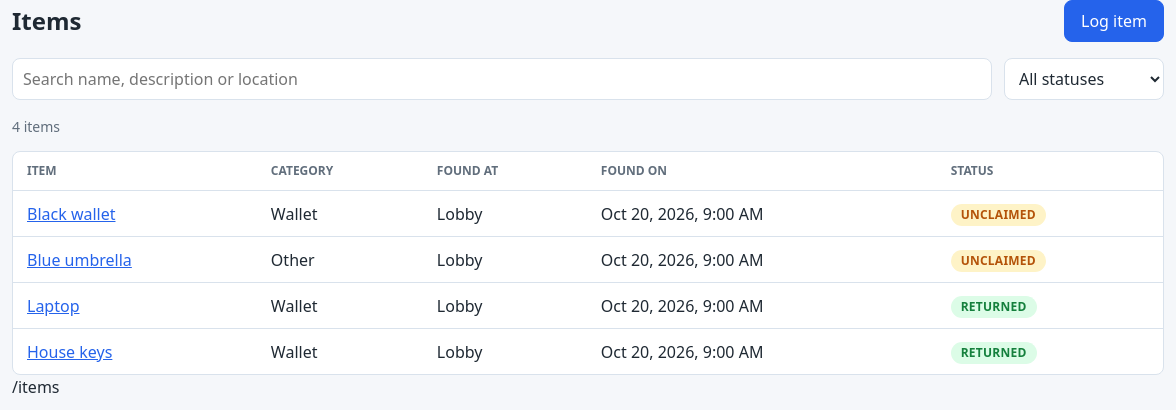
Test case: ItemsPage › filters by status and keeps it in the URL
Expected: the text "4 items" is shown, left=12, top=117, right=60, bottom=136
Select "Returned" in the dropdown named "Status" at x=1084, y=79, box left=1004, top=58, right=1164, bottom=100
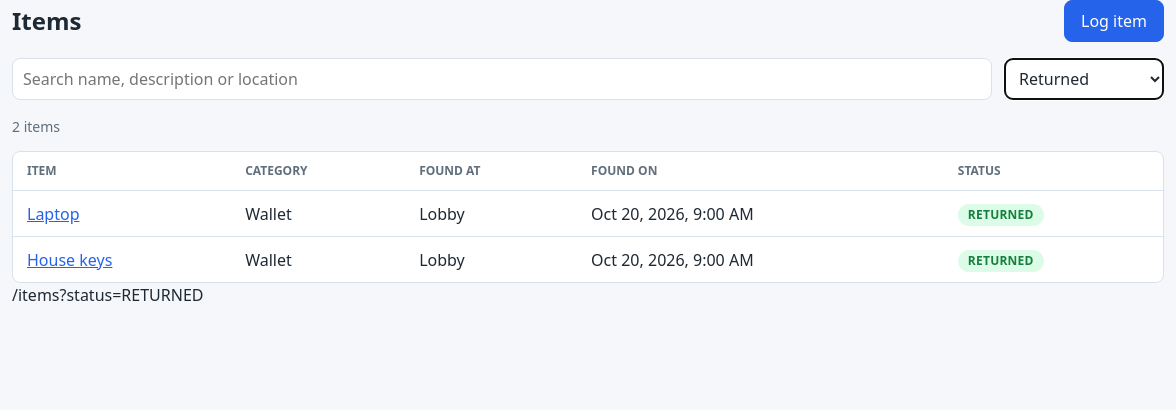
Expected: the text "2 items" is shown, left=12, top=117, right=60, bottom=136
Expected: the text with test id "location" reads "/items?status=RETURNED", left=12, top=284, right=204, bottom=306
